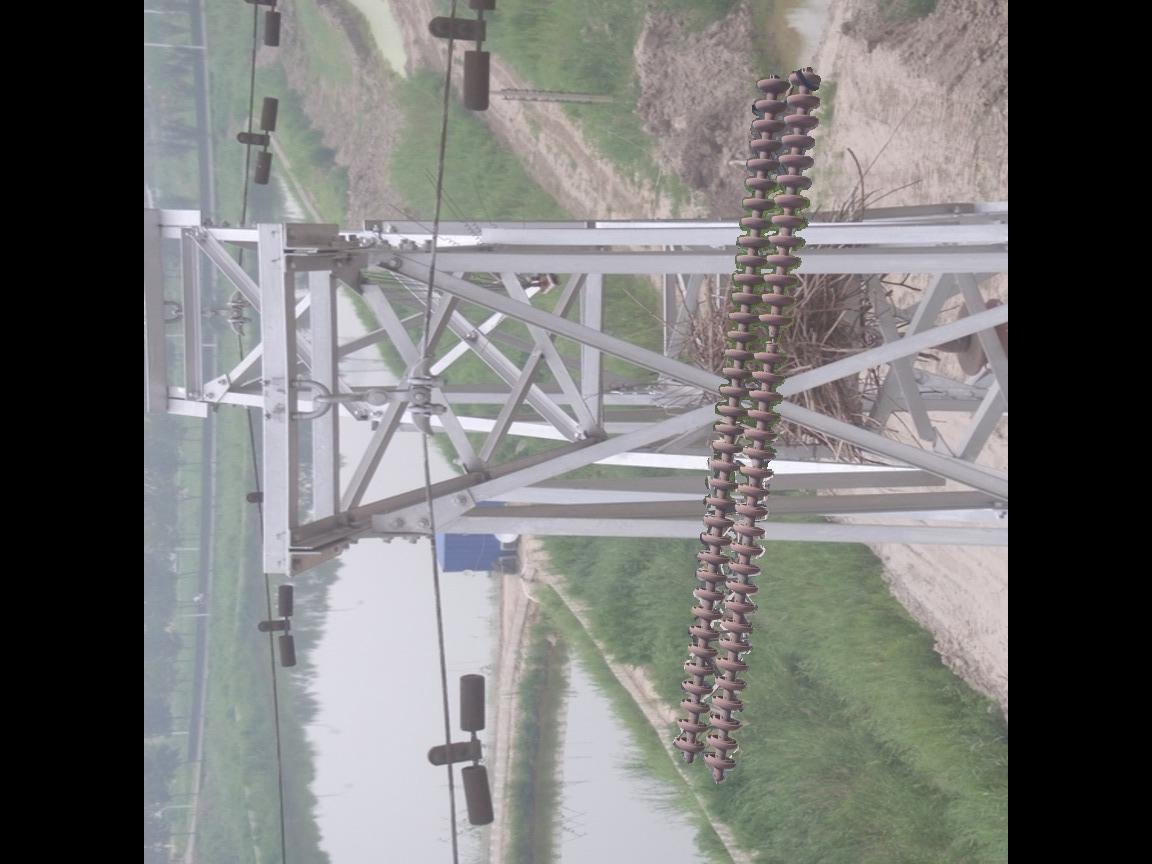insulator: (671, 61, 827, 782)
insulator_stringdrop: (749, 310, 796, 368)
